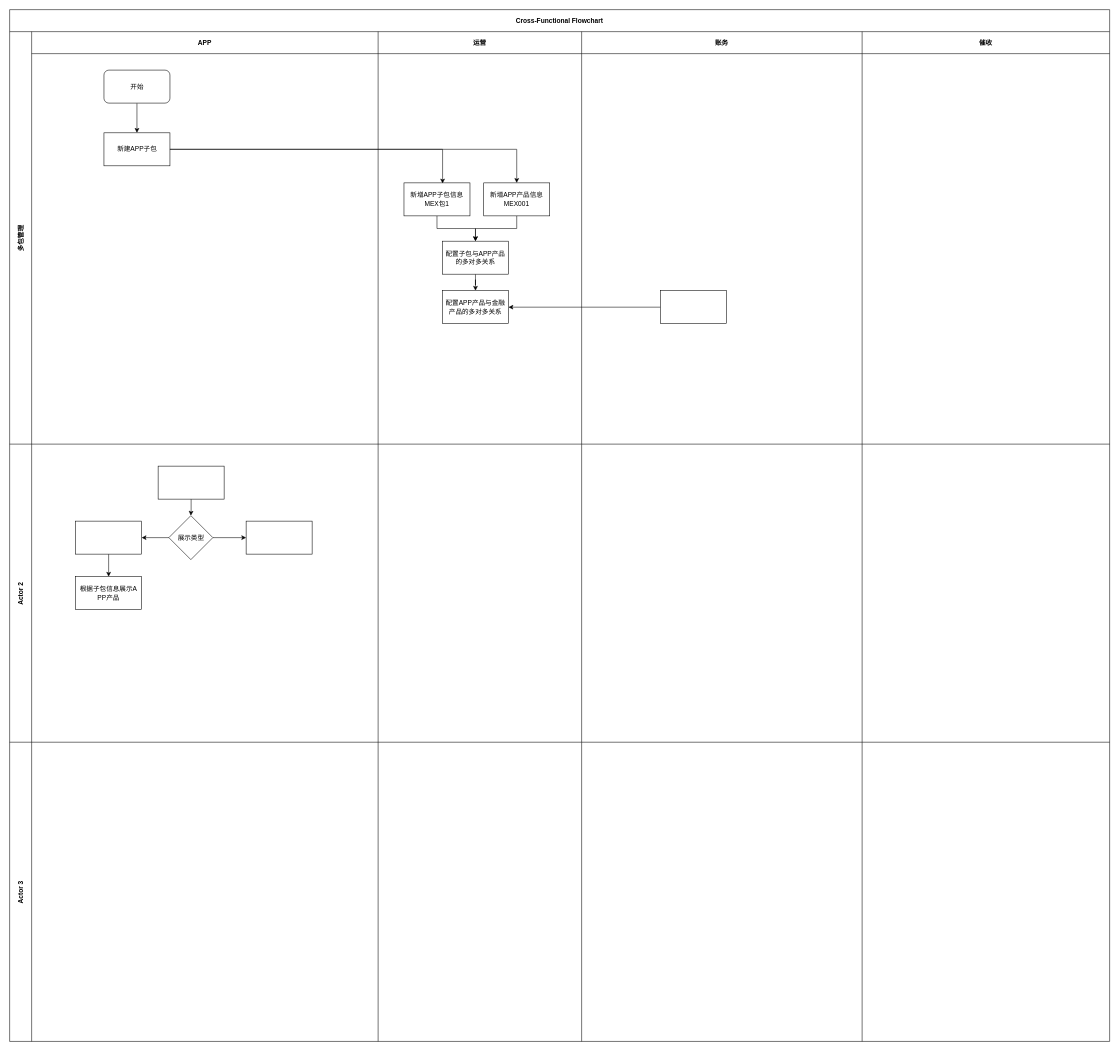
The diagram is 1119 pixels wide and 1051 high, and some of its shapes have lost their labels. The box of each missing label's shape, as (x1, y1, x2, y2) in pixels:
先展示APP产品: (75, 521, 142, 554)
后展示APP产品: (246, 521, 312, 554)
新增金融产品M001: (660, 290, 726, 324)
进入首页: (158, 466, 224, 499)
